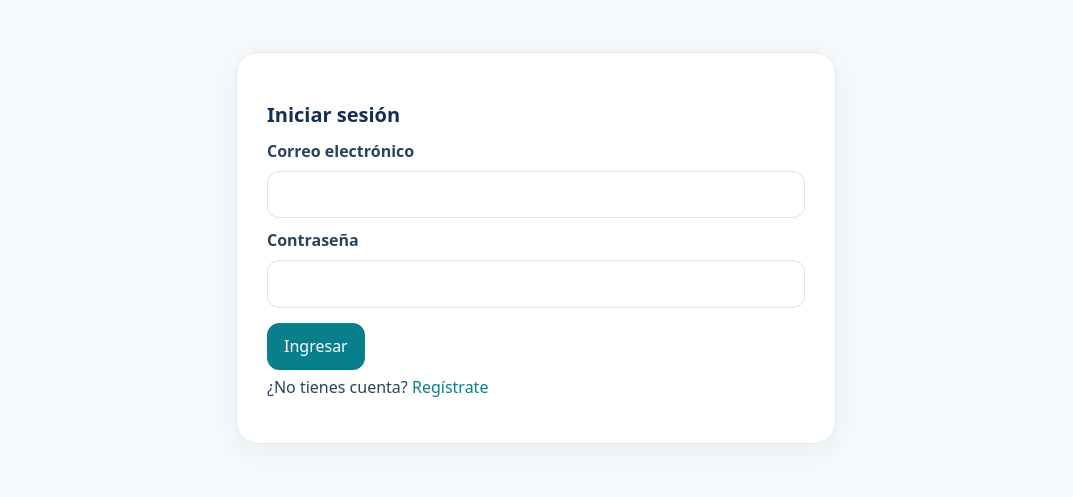
Scenario: Componentes e interacciones del módulo Daniel › rechaza credenciales incorrectas
Type "admin@duocuc.cl" into the field labelled "Correo electrónico". click: (536, 195)
box: [267,171,805,218]
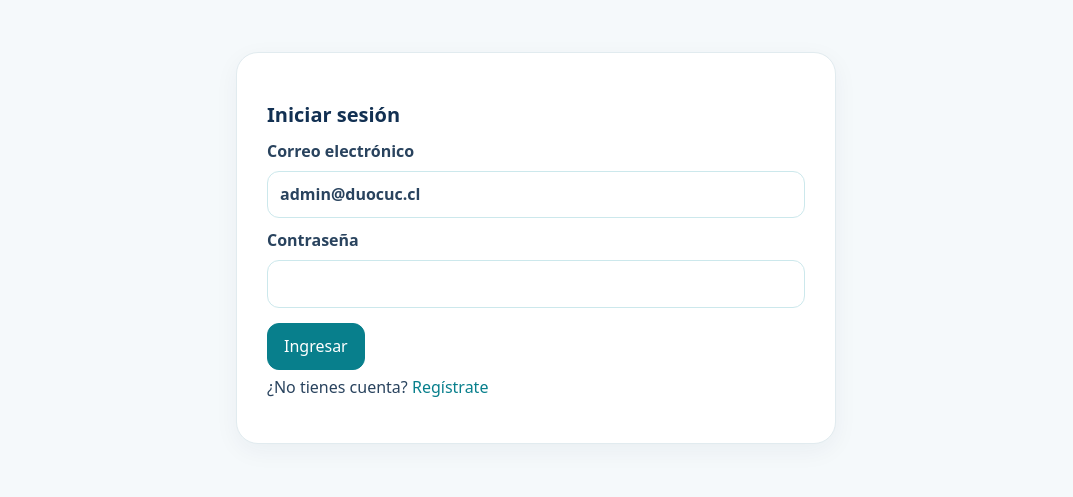
Type "Incorrecta123" into the password field labelled "Contraseña". click: (536, 284)
box: [267,260,805,308]
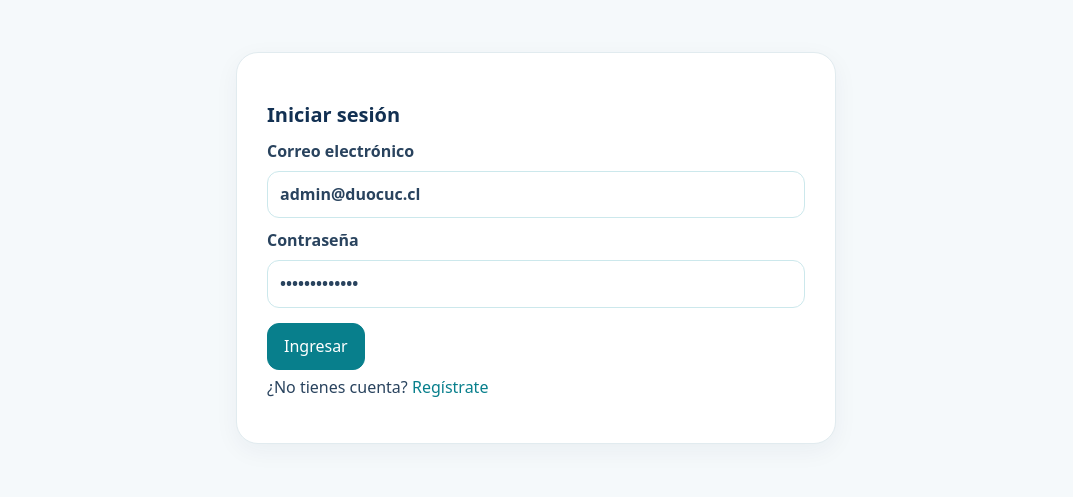
Click the button "Ingresar". click: (316, 346)
box: [267,323,365,370]
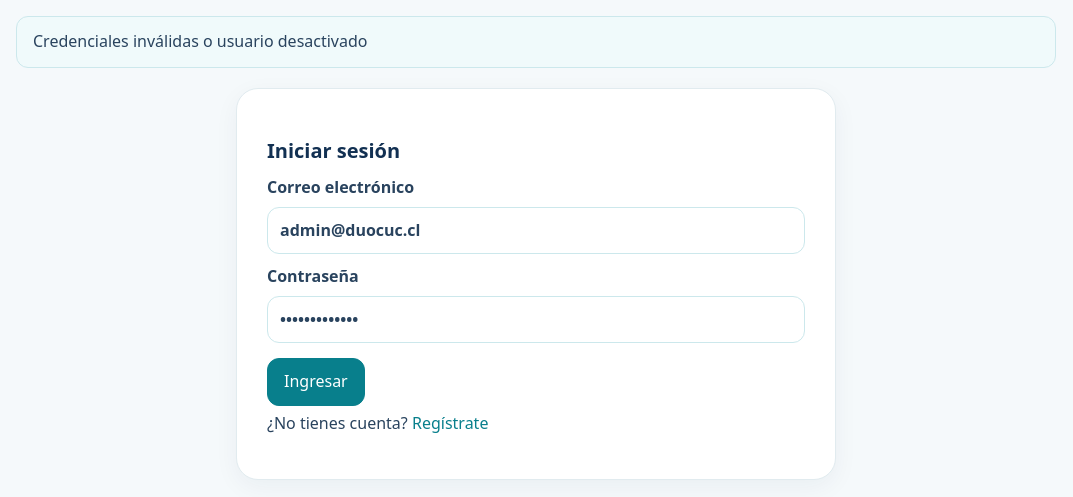
Check: the message shows "Credenciales inválidas", box [33,30,368,52]
